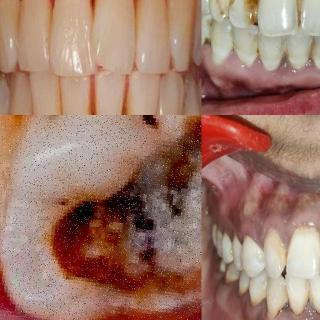Gum Swelling: (202, 45, 320, 91), (240, 209, 320, 254)
calculus: (286, 290, 308, 320), (280, 37, 294, 67), (227, 32, 241, 60), (271, 297, 286, 320), (310, 289, 320, 320)
cavities: (20, 115, 202, 320), (202, 29, 214, 53)
maligned: (88, 0, 144, 72), (266, 274, 286, 320)
plaque: (250, 33, 266, 60)
stains: (306, 33, 320, 62), (302, 274, 314, 294)
